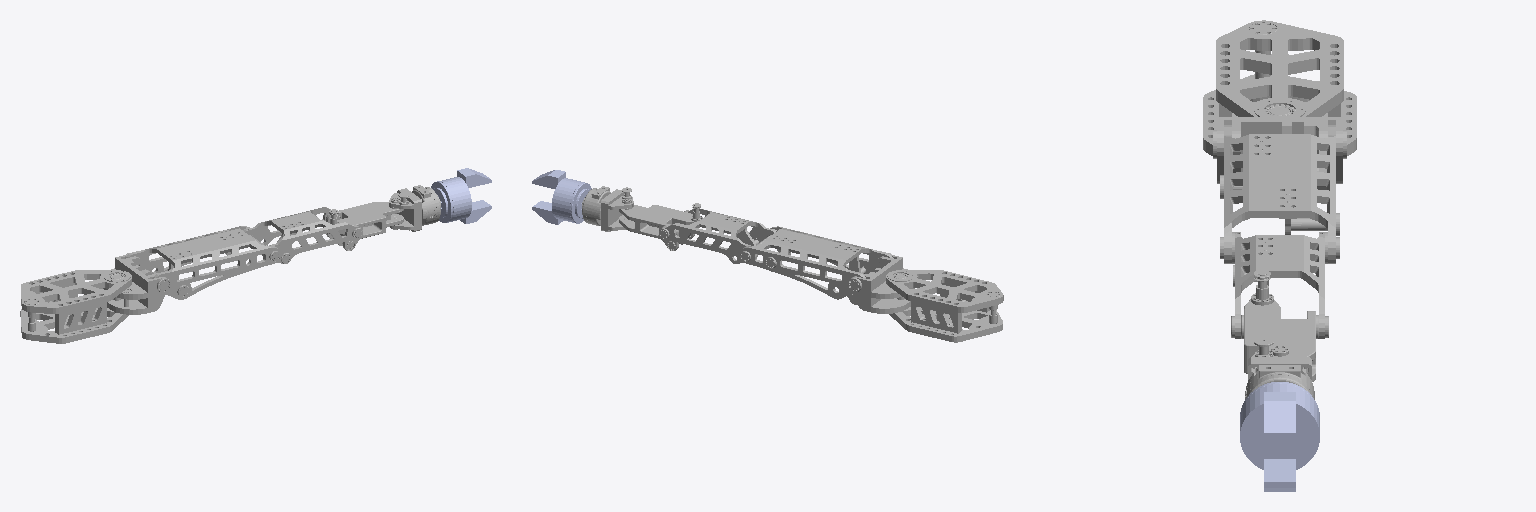
URDF robot description (SLAVE_ARM):
<robot
  name="SLAVE_ARM">
  <link
    name="BASE_LINK">
    <inertial>
      <origin
        xyz="0.2973 0.0488 0.1042"
        rpy="0 0 0" />
      <mass
        value="17.574" />
      <inertia
        ixx="0.41733"
        ixy="0.0168"
        ixz="-0.0017"
        iyy="0.76126"
        iyz="0"
        izz="0.9251" />
    </inertial>
    <visual>
      <origin
        xyz="0 0 0"
        rpy="0 0 0" />
      <geometry>
        <mesh
          filename="package://SLAVE_ARM/meshes/BASE_LINK.STL" />
      </geometry>
      <material
        name="">
        <color
          rgba="0.75294 0.75294 0.75294 1" />
      </material>
    </visual>
    <collision>
      <origin
        xyz="0 0 0"
        rpy="0 0 0" />
      <geometry>
        <mesh
          filename="package://SLAVE_ARM/meshes/BASE_LINK.STL" />
      </geometry>
    </collision>
  </link>
  <link
    name="LINK1">
    <inertial>
      <origin
        xyz="0.1104 0.0137 0.0189"
        rpy="0 0 0" />
      <mass
        value="10.337" />
      <inertia
        ixx="0.1694"
        ixy="0.015"
        ixz="0.0093"
        iyy="0.10174"
        iyz="-0.0021"
        izz="0.2048" />
    </inertial>
    <visual>
      <origin
        xyz="0 0 0"
        rpy="0 0 0" />
      <geometry>
        <mesh
          filename="package://SLAVE_ARM/meshes/LINK1.STL" />
      </geometry>
      <material
        name="">
        <color
          rgba="0.75294 0.75294 0.75294 1" />
      </material>
    </visual>
    <collision>
      <origin
        xyz="0 0 0"
        rpy="0 0 0" />
      <geometry>
        <mesh
          filename="package://SLAVE_ARM/meshes/LINK1.STL" />
      </geometry>
    </collision>
  </link>
  <joint
    name="LINK1_JOINT"
    type="continuous">
    <origin
      xyz="0.608 0.052 0.111"
      rpy="0 0 0" />
    <parent
      link="BASE_LINK" />
    <child
      link="LINK1" />
    <axis
      xyz="0 0 1" />
  </joint>
  <link
    name="LINK2">
    <inertial>
      <origin
        xyz="0.387 -0.0012 0.0217"
        rpy="0 0 0" />
      <mass
        value="9.5413" />
      <inertia
        ixx="0.1864"
        ixy="0.0162"
        ixz="0.0236"
        iyy="0.5195"
        iyz="0.0025"
        izz="0.6443" />
    </inertial>
    <visual>
      <origin
        xyz="0 0 0"
        rpy="0 0 0" />
      <geometry>
        <mesh
          filename="package://SLAVE_ARM/meshes/LINK2.STL" />
      </geometry>
      <material
        name="">
        <color
          rgba="0.75294 0.75294 0.75294 1" />
      </material>
    </visual>
    <collision>
      <origin
        xyz="0 0 0"
        rpy="0 0 0" />
      <geometry>
        <mesh
          filename="package://SLAVE_ARM/meshes/LINK2.STL" />
      </geometry>
    </collision>
  </link>
  <joint
    name="LINK2_JOINT"
    type="continuous">
    <origin
      xyz="0.2 0 0.09"
      rpy="0 0 0" />
    <parent
      link="LINK1" />
    <child
      link="LINK2" />
    <axis
      xyz="0 -1 0" />
  </joint>
  <link
    name="LINK3">
    <inertial>
      <origin
        xyz="0.25161 -0.0058 0.0306"
        rpy="0 0 0" />
      <mass
        value="4.6229" />
      <inertia
        ixx="0.064842"
        ixy="0.0032"
        ixz="0.0043"
        iyy="0.1375"
        iyz="0.0013"
        izz="0.1805" />
    </inertial>
    <visual>
      <origin
        xyz="0 0 0"
        rpy="0 0 0" />
      <geometry>
        <mesh
          filename="package://SLAVE_ARM/meshes/LINK3.STL" />
      </geometry>
      <material
        name="">
        <color
          rgba="0.75294 0.75294 0.75294 1" />
      </material>
    </visual>
    <collision>
      <origin
        xyz="0 0 0"
        rpy="0 0 0" />
      <geometry>
        <mesh
          filename="package://SLAVE_ARM/meshes/LINK3.STL" />
      </geometry>
    </collision>
  </link>
  <joint
    name="LINK3_JOINT"
    type="continuous">
    <origin
      xyz="0.765 0 0"
      rpy="0 0 0" />
    <parent
      link="LINK2" />
    <child
      link="LINK3" />
    <axis
      xyz="0 -1 0" />
  </joint>
  <link
    name="LINK4">
    <inertial>
      <origin
        xyz="0.0963 -0.006 -0.0134"
        rpy="0 0 0" />
      <mass
        value="6.0768" />
      <inertia
        ixx="0.0329"
        ixy="0.0125"
        ixz="0.0009"
        iyy="0.1067"
        iyz="-0.0011"
        izz="0.1194" />
    </inertial>
    <visual>
      <origin
        xyz="0 0 0"
        rpy="0 0 0" />
      <geometry>
        <mesh
          filename="package://SLAVE_ARM/meshes/LINK4.STL" />
      </geometry>
      <material
        name="">
        <color
          rgba="0.75294 0.75294 0.75294 1" />
      </material>
    </visual>
    <collision>
      <origin
        xyz="0 0 0"
        rpy="0 0 0" />
      <geometry>
        <mesh
          filename="package://SLAVE_ARM/meshes/LINK4.STL" />
      </geometry>
    </collision>
  </link>
  <joint
    name="LINK4_JOINT"
    type="continuous">
    <origin
      xyz="0.582 0 0"
      rpy="0 0 0" />
    <parent
      link="LINK3" />
    <child
      link="LINK4" />
    <axis
      xyz="0 -1 0" />
  </joint>
  <link
    name="LINK5">
    <inertial>
      <origin
        xyz="0.1513 0 0.0022"
        rpy="0 0 0" />
      <mass
        value="7.0927" />
      <inertia
        ixx="0.0446"
        ixy="0.0005"
        ixz="-0.0008"
        iyy="0.0597"
        iyz="-0.0004"
        izz="0.0571" />
    </inertial>
    <visual>
      <origin
        xyz="0 0 0"
        rpy="0 0 0" />
      <geometry>
        <mesh
          filename="package://SLAVE_ARM/meshes/LINK5.STL" />
      </geometry>
      <material
        name="">
        <color
          rgba="0.75294 0.75294 0.75294 1" />
      </material>
    </visual>
    <collision>
      <origin
        xyz="0 0 0"
        rpy="0 0 0" />
      <geometry>
        <mesh
          filename="package://SLAVE_ARM/meshes/LINK5.STL" />
      </geometry>
    </collision>
  </link>
  <joint
    name="LINK5_JOINT"
    type="continuous">
    <origin
      xyz="0.34 0 -0.01"
      rpy="0 0 0" />
    <parent
      link="LINK4" />
    <child
      link="LINK5" />
    <axis
      xyz="0 0 1" />
  </joint>
  <link
    name="LINK6">
    <inertial>
      <origin
        xyz="0.0824 0 0"
        rpy="0 0 0" />
      <mass
        value="7.1931" />
      <inertia
        ixx="0.0555"
        ixy="0"
        ixz="0"
        iyy="0.041"
        iyz="0"
        izz="0.041" />
    </inertial>
    <visual>
      <origin
        xyz="0 0 0"
        rpy="0 0 0" />
      <geometry>
        <mesh
          filename="package://SLAVE_ARM/meshes/LINK6.STL" />
      </geometry>
      <material
        name="">
        <color
          rgba="0.79216 0.81961 0.93333 1" />
      </material>
    </visual>
    <collision>
      <origin
        xyz="0 0 0"
        rpy="0 0 0" />
      <geometry>
        <mesh
          filename="package://SLAVE_ARM/meshes/LINK6.STL" />
      </geometry>
    </collision>
  </link>
  <joint
    name="LINK6_JOINT"
    type="continuous">
    <origin
      xyz="0.29162 0 0"
      rpy="0 0 0" />
    <parent
      link="LINK5" />
    <child
      link="LINK6" />
    <axis
      xyz="1 0 0" />
  </joint>
  <link
    name="LINK7">
    <inertial>
      <origin
        xyz="0.0723 0 0"
        rpy="0 0 0" />
      <mass
        value="2.17" />
      <inertia
        ixx="0.0287"
        ixy="0"
        ixz="0"
        iyy="0.0314"
        iyz="0"
        izz="0.0063" />
    </inertial>
    <visual>
      <origin
        xyz="0 0 0"
        rpy="0 0 0" />
      <geometry>
        <mesh
          filename="package://SLAVE_ARM/meshes/LINK7.STL" />
      </geometry>
      <material
        name="">
        <color
          rgba="0.79216 0.81961 0.93333 1" />
      </material>
    </visual>
    <collision>
      <origin
        xyz="0 0 0"
        rpy="0 0 0" />
      <geometry>
        <mesh
          filename="package://SLAVE_ARM/meshes/LINK7.STL" />
      </geometry>
    </collision>
  </link>
  <joint
    name="LINK7_JOINT"
    type="fixed">
    <origin
      xyz="0.156 0 0"
      rpy="0 0 0" />
    <parent
      link="LINK6" />
    <child
      link="LINK7" />
    <axis
      xyz="0 0 0" />
  </joint>
</robot>

--- Render facts (derived) ---
The picture shows the robot from 3 angles, left to right: view 1: azimuth 30°, elevation 25°; view 2: azimuth 150°, elevation 25°; view 3: azimuth 270°, elevation 25°; orthographic projection.
Model SLAVE_ARM with 8 links and 7 joints (6 continuous, 1 fixed), rooted at BASE_LINK, posed every joint at zero.
Visible links, largest first — view 1: BASE_LINK, LINK2, LINK3, LINK1, LINK4, LINK5, LINK6, LINK7; view 2: BASE_LINK, LINK2, LINK3, LINK1, LINK4, LINK5, LINK6, LINK7; view 3: BASE_LINK, LINK2, LINK3, LINK6, LINK4, LINK1, LINK7, LINK5.
Boxes of the visible links, x1,y1,x2,y2 form: BASE_LINK: (20, 270, 131, 343); LINK2: (125, 226, 281, 299); LINK3: (243, 207, 362, 263); LINK1: (103, 253, 170, 314); LINK4: (326, 202, 403, 250); LINK5: (389, 185, 440, 231); LINK6: (431, 177, 471, 222); LINK7: (457, 168, 491, 223); BASE_LINK: (886, 270, 1003, 342); LINK2: (739, 226, 893, 299); LINK3: (659, 209, 776, 263); LINK1: (847, 253, 914, 313); LINK4: (619, 203, 702, 250); LINK5: (582, 186, 633, 231); LINK6: (552, 178, 591, 223); LINK7: (532, 170, 565, 224); BASE_LINK: (1203, 20, 1356, 155); LINK2: (1220, 125, 1339, 263); LINK3: (1231, 232, 1328, 338); LINK6: (1240, 382, 1319, 469); LINK4: (1241, 270, 1318, 381); LINK1: (1213, 117, 1346, 189); LINK7: (1264, 392, 1295, 491); LINK5: (1245, 336, 1314, 399).
Bounding box of the posed robot: 3.18 × 0.48 × 0.346 m (x, y, z).
Meshes: 8 distinct files referenced, 8 mesh visuals loaded (8 binary STL).